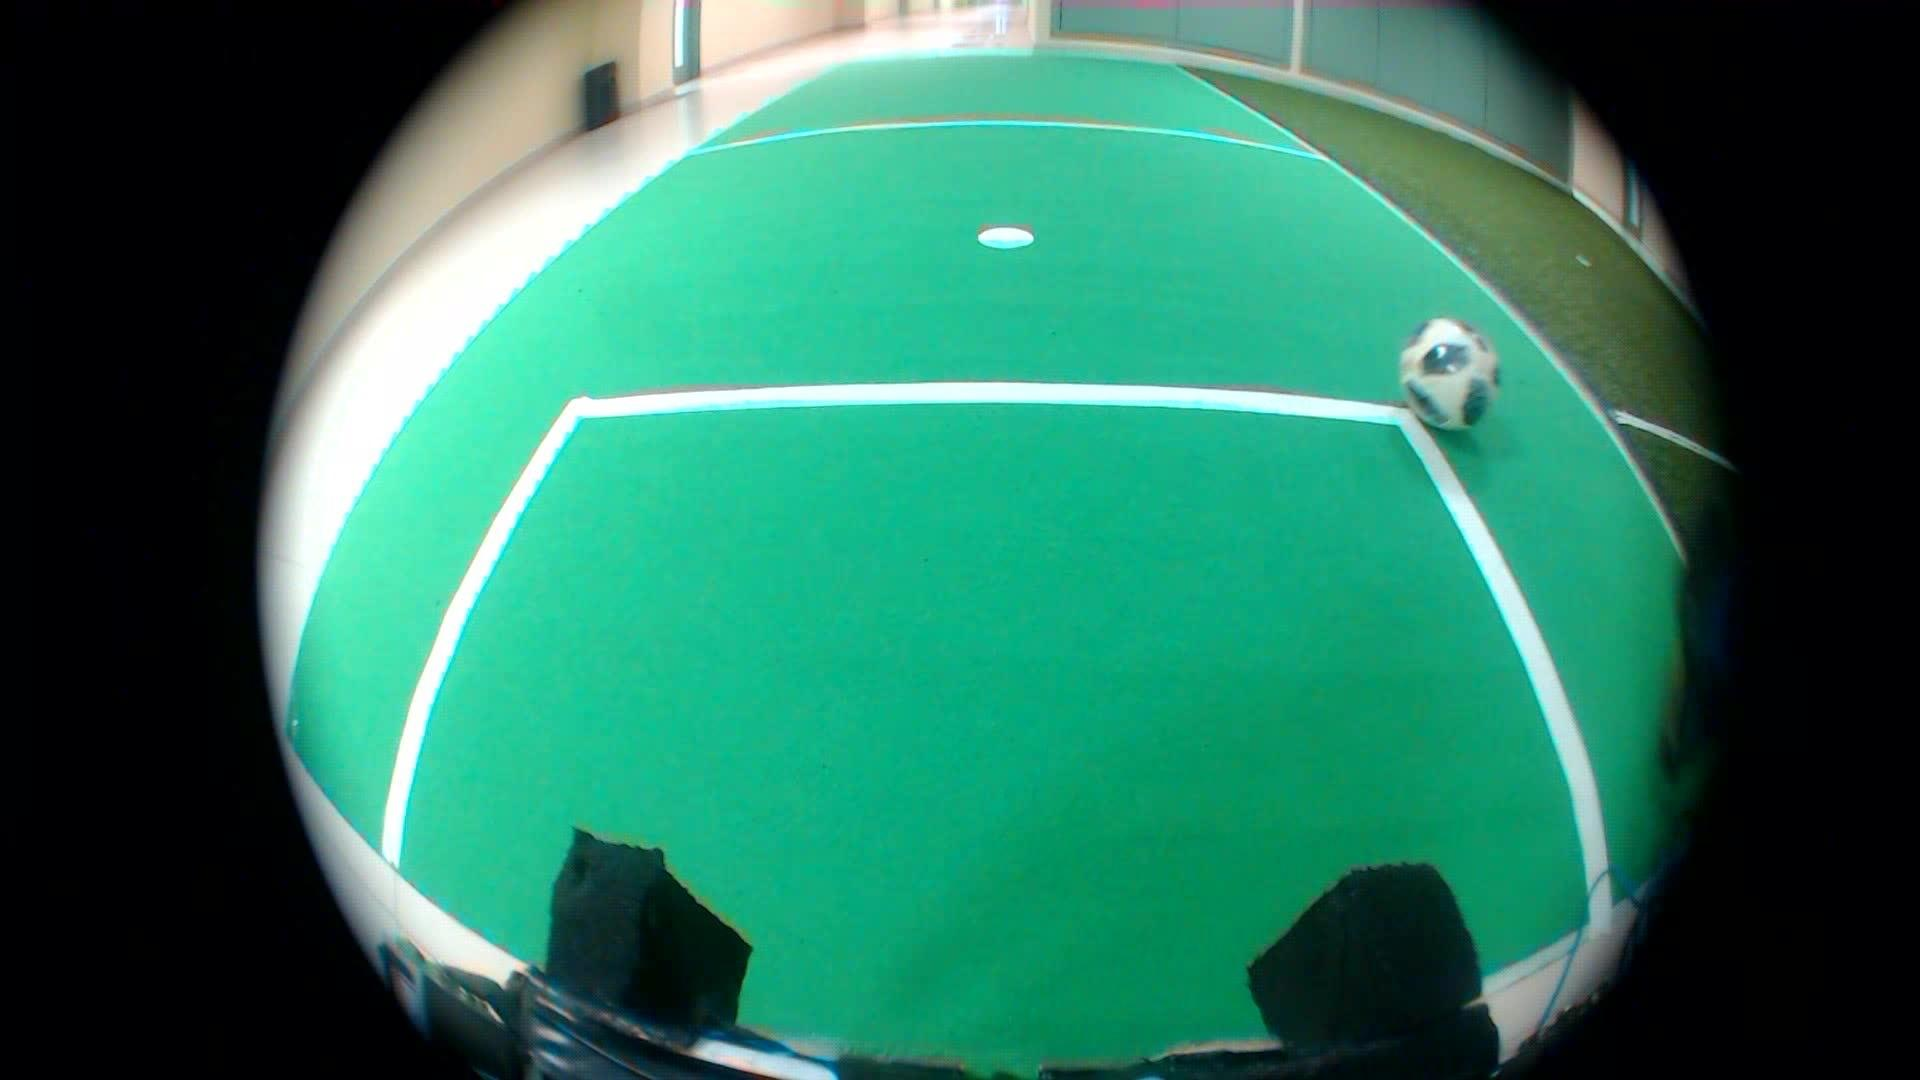ball: (1391, 309, 1503, 444)
